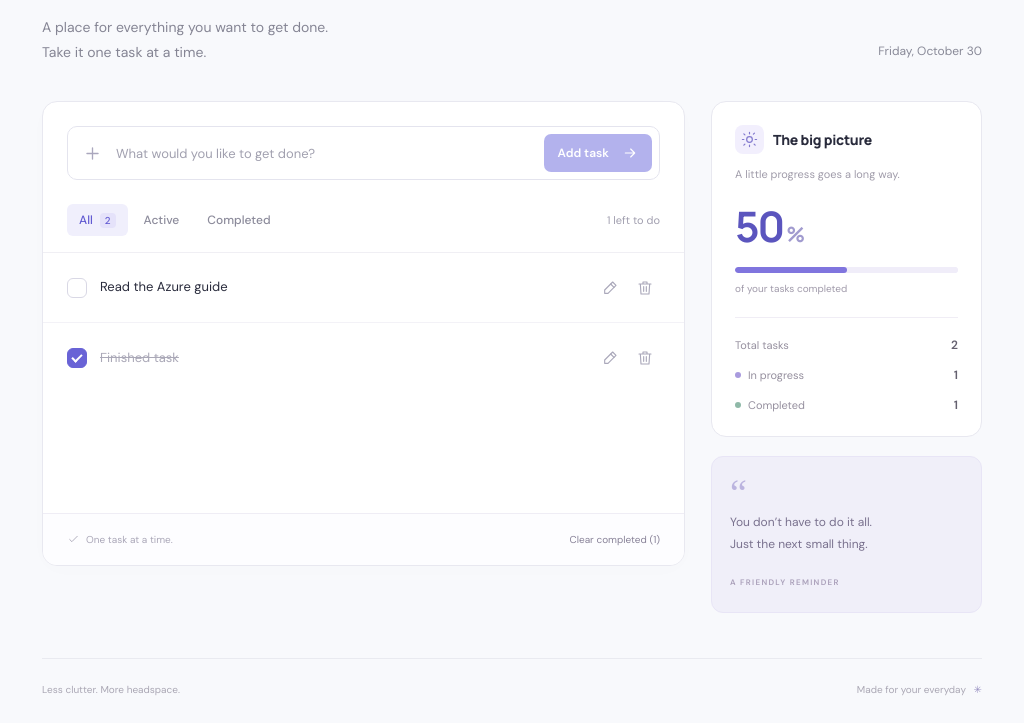
Test case: task board › clears completed tasks while keeping active ones
(page scrolled)
Expected: the text "Finished task" is shown, x1=100 y1=349 x2=179 y2=366
Click the button "Clear completed (1)" at (615, 540), box x1=570 y1=530 x2=660 y2=549
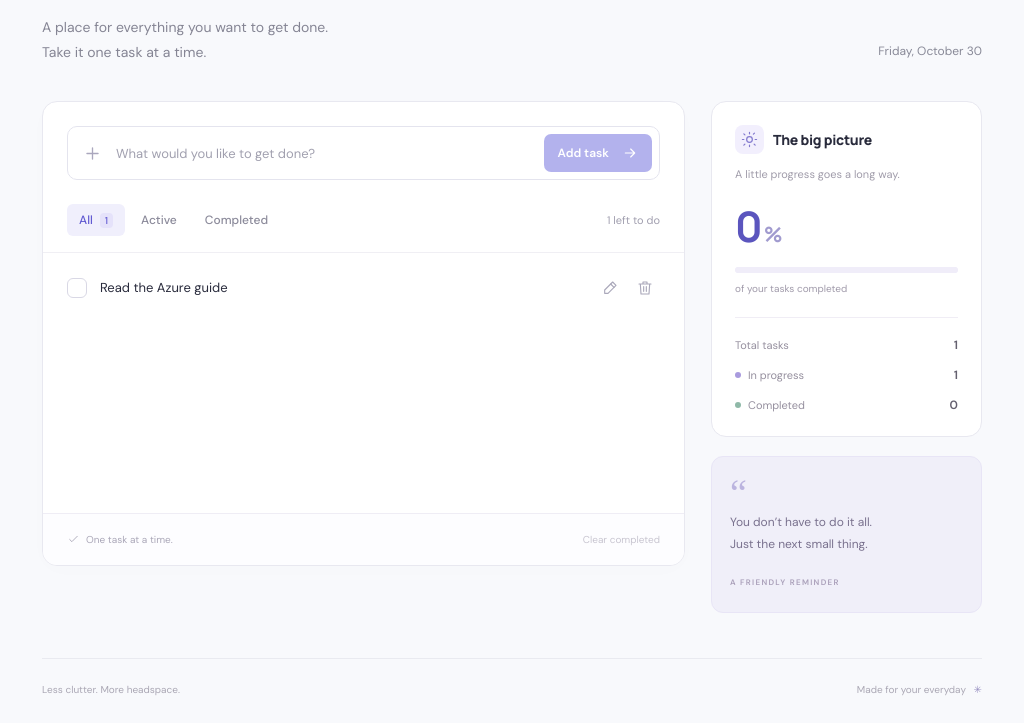
Expected: the text "Read the Azure guide" is shown, x1=100 y1=279 x2=228 y2=296
Expected: the text "Finished task" is gone
